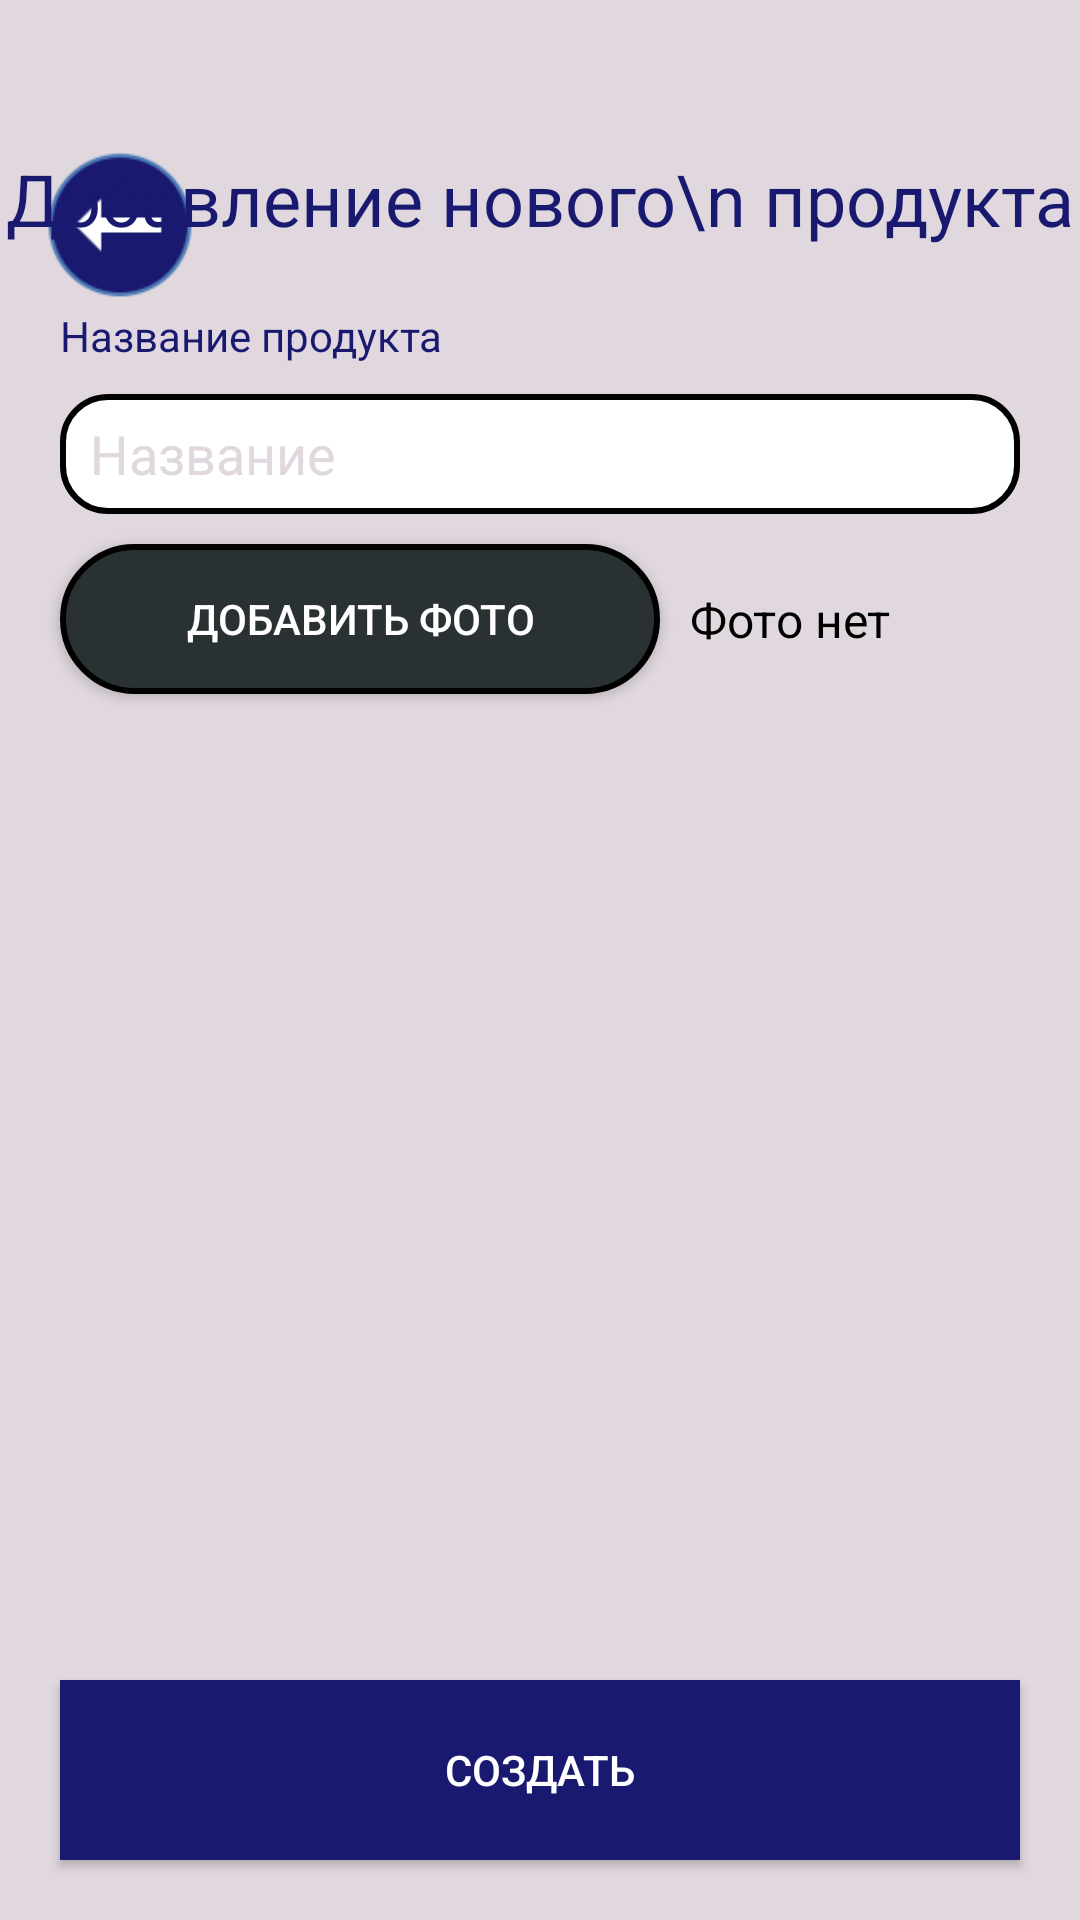

Point at icon controls on the screen. Image size 1080w x 1920h, points as (x=x, y=y).
back: (x=120, y=225)
